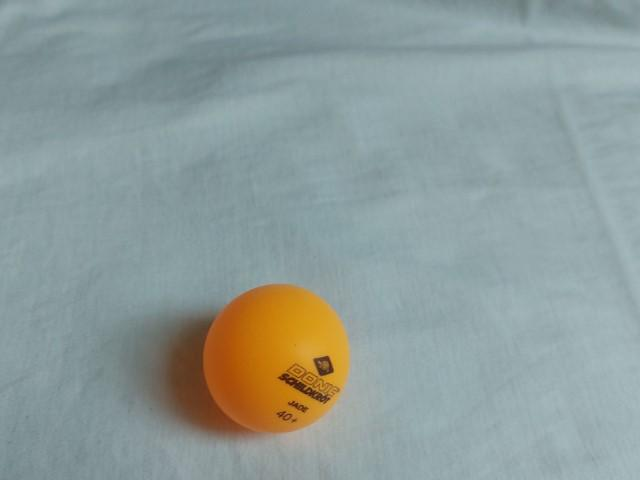oball: (195, 277, 362, 438)
